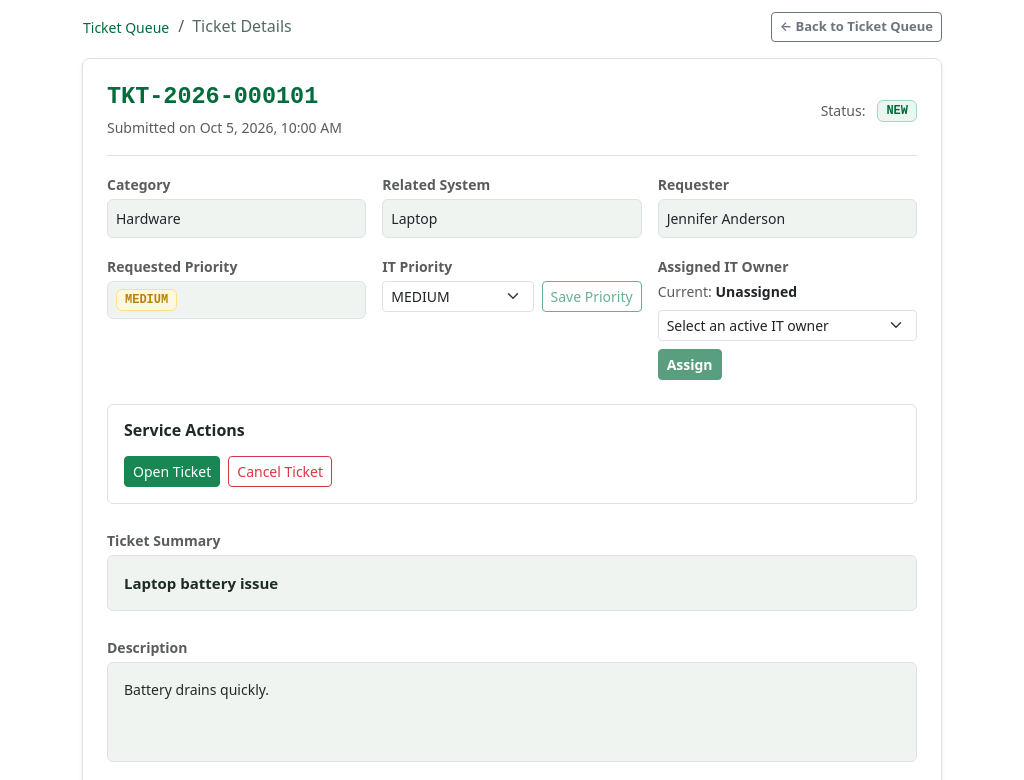
Scenario: Ticket Detail assignment controls › shows active assignees, enables Assign on selection, and submits the selected owner
Expected: the heading "TKT-2026-000101" is shown, [107, 82, 342, 111]
Expected: the button "← Back to Ticket Queue" is shown, [771, 12, 942, 42]
Select "Tech Two (IT Staff)" in the dropdown named "Assign to IT Staff or Administrator" at (787, 325), box [658, 310, 917, 341]
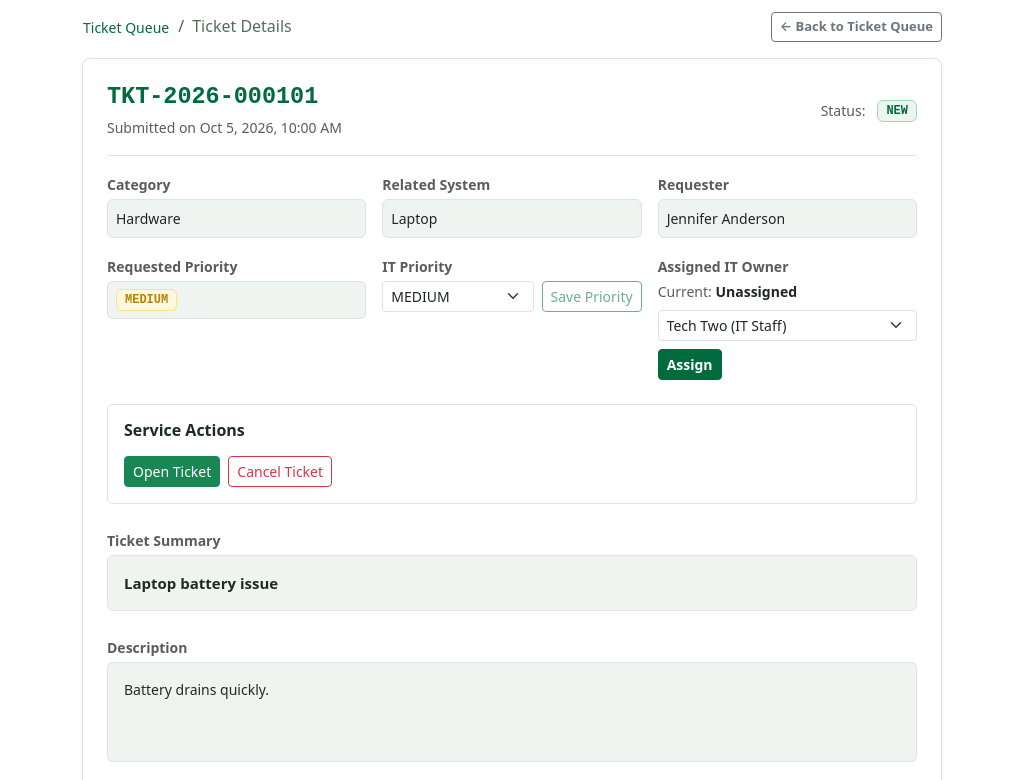
Expected: the button "Assign" is enabled
Click the button "Assign" at (690, 364), box [658, 349, 722, 380]
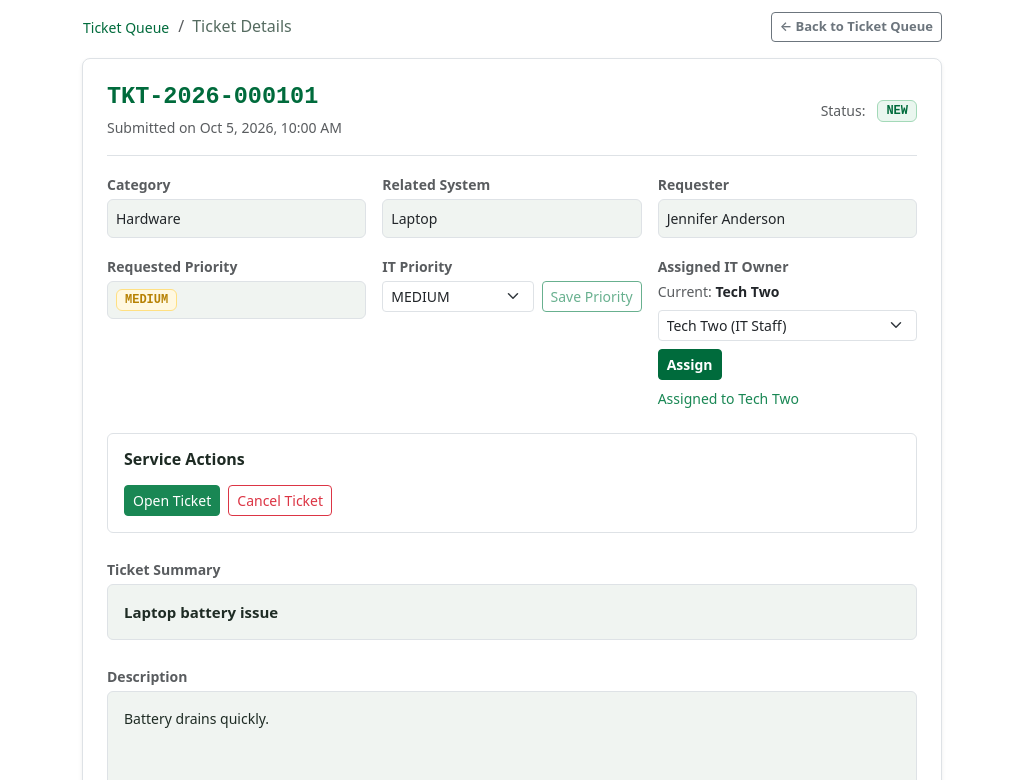
Expected: the message reads "Assigned to Tech Two", [658, 389, 799, 408]
